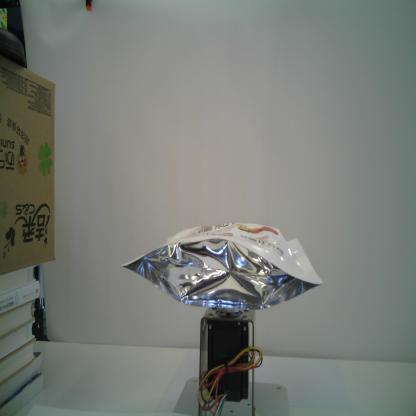Dried Food: (120, 219, 324, 314)
